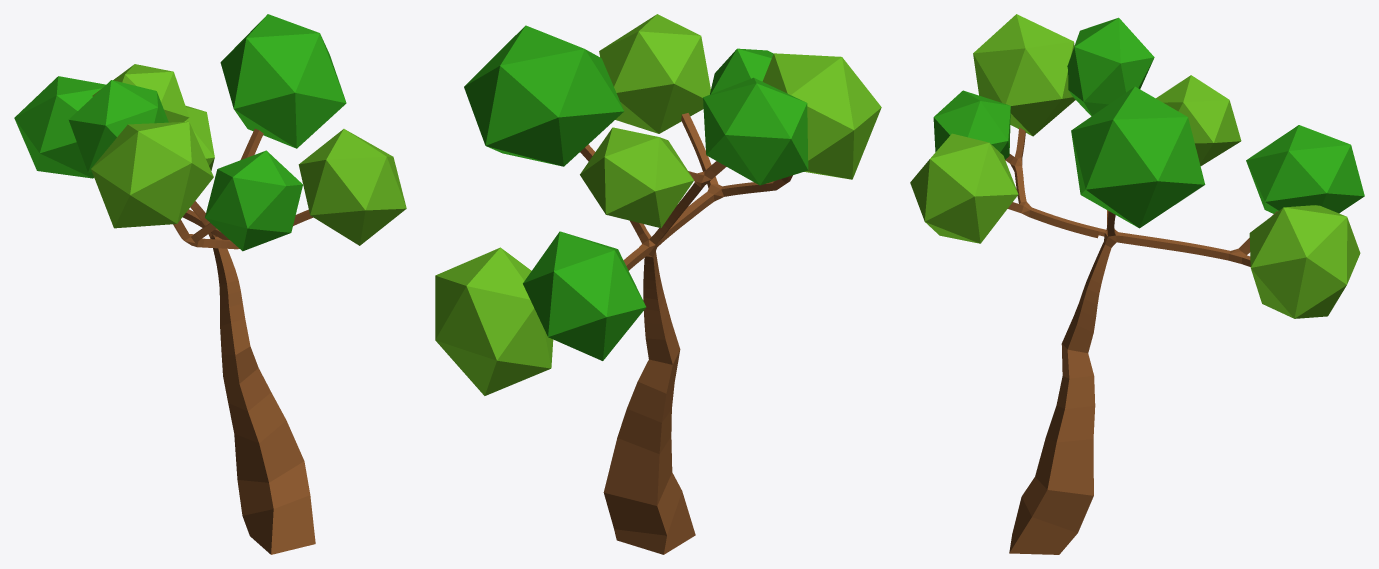
File: Tree 2.2.fbx
3 renders of one model, left to right at view 1: azimuth 30°, elevation 25°; view 2: azimuth 150°, elevation 25°; view 3: azimuth 270°, elevation 25°, orthographic. The views are drawn at different scales.
Parts seen in each view (by area): view 1: Cube; view 2: Cube; view 3: Cube.
Boxes of the visible parts, x1,y1,x2,y2 form: Cube: [14, 14, 406, 554]; Cube: [435, 14, 881, 554]; Cube: [910, 14, 1364, 554].
Size of the model in its own units: 197 by 300 by 266.
